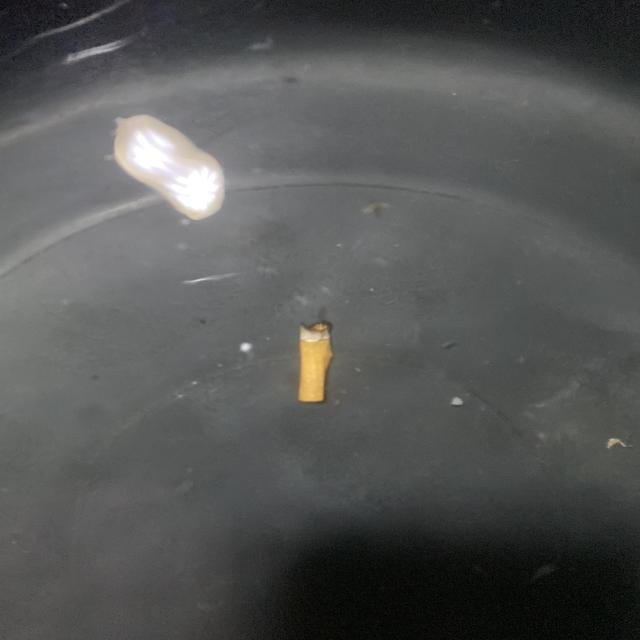Cigarette Filter: (276, 315, 349, 409)
